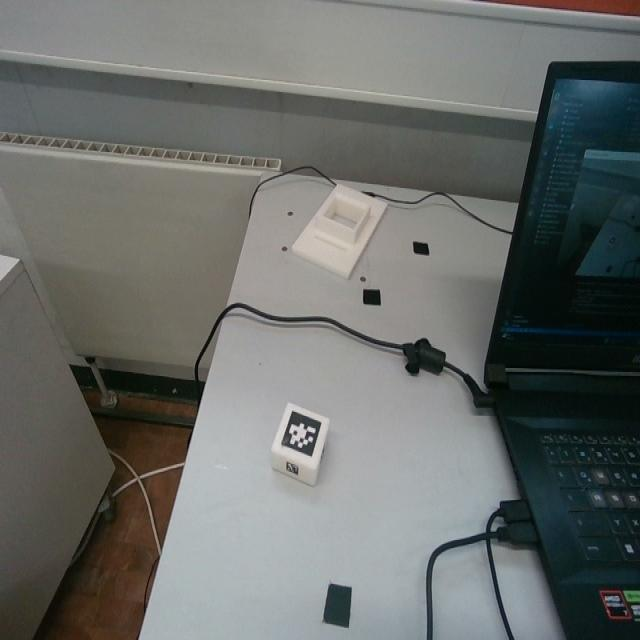Cube: (269, 400, 332, 487)
